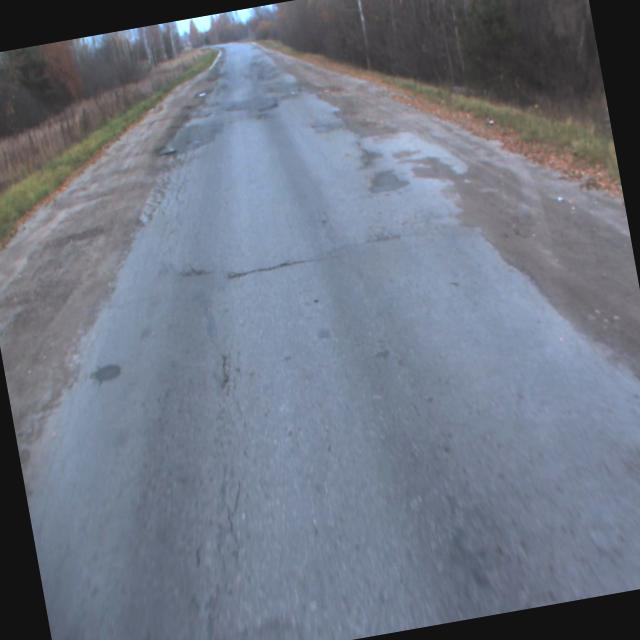road: (15, 42, 640, 640)
